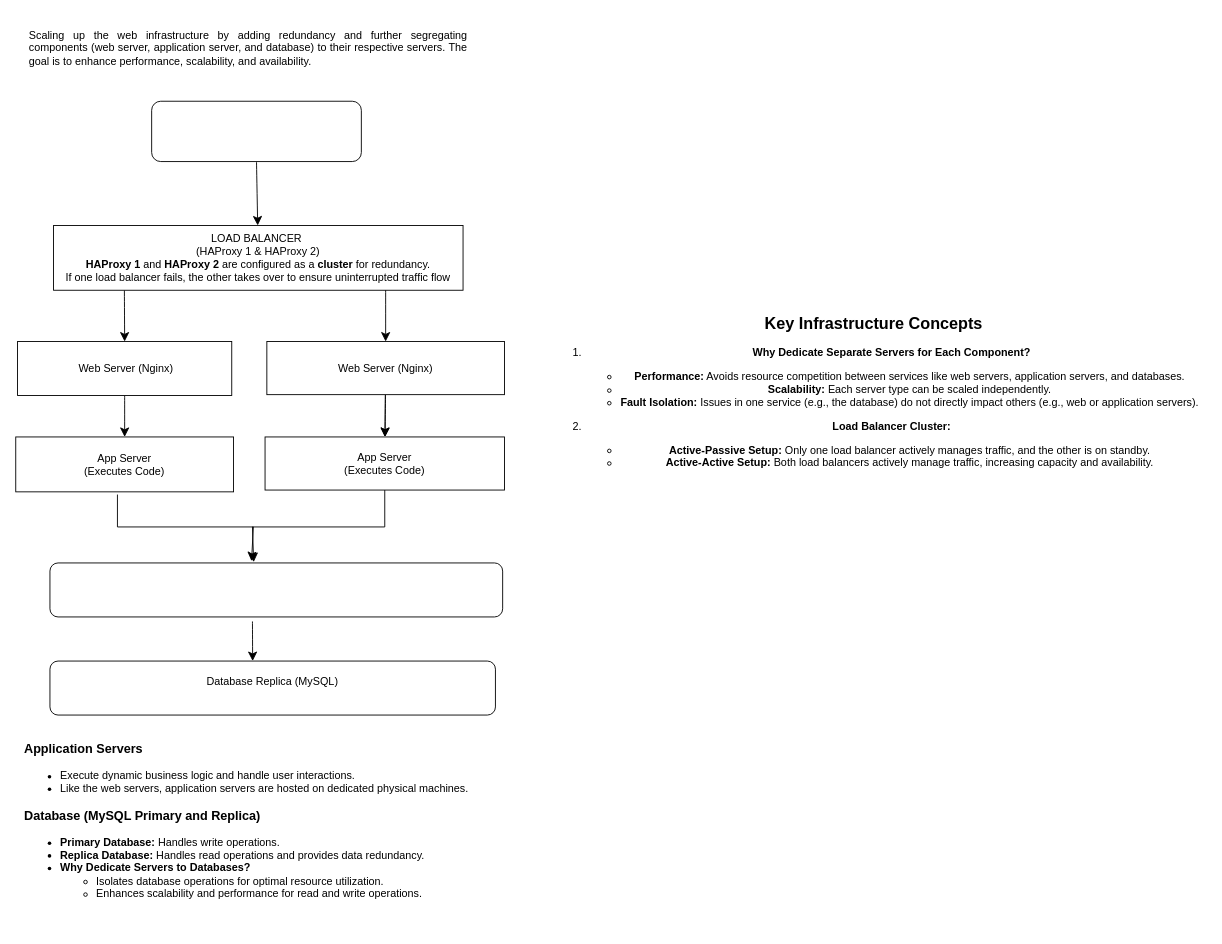
Image size: 1222x944. Some labels were removed from this diagram. Each missing label, with the centre of its shape:
"Database Primary (MySQL)" goes at (x=276, y=589).
"DNS SERVER Resolves www.foobar.com" goes at (x=256, y=131).
